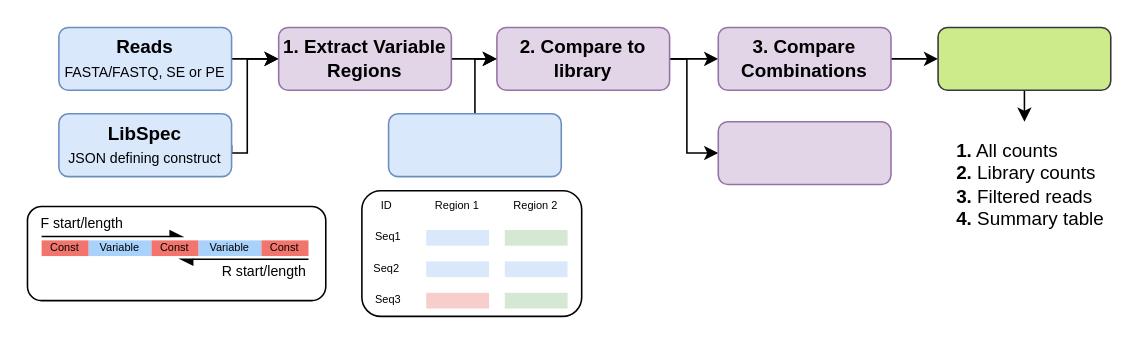
Image size: 1138x344. Some labels were removed from this diagram. Each missing label, with the box of its shape:
4. Output count tables: (937, 26, 1111, 90)
Library(s) Expected library TSV(s): (387, 112, 561, 177)
Optional: Variants Compute variants: (717, 120, 891, 184)
